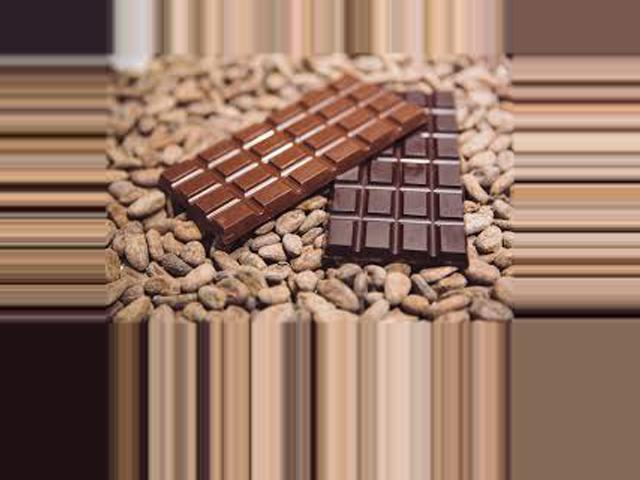chocolate: (324, 79, 485, 274)
